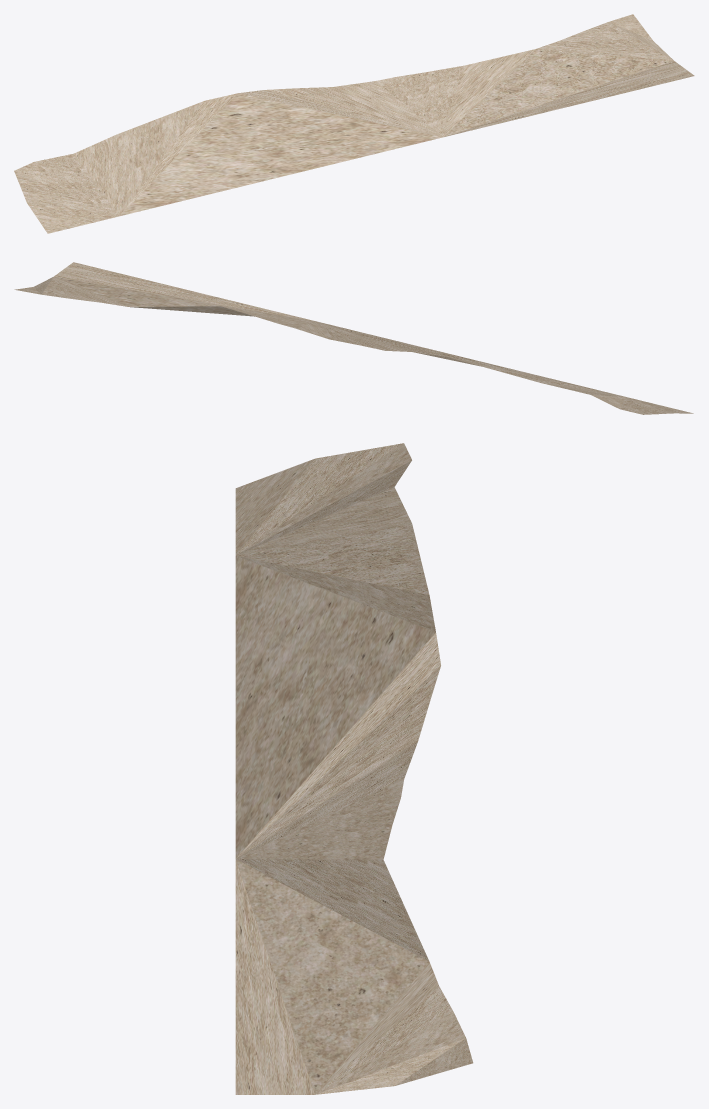
File: lodseabeds01.obj
3 renders of one model, top to bottom at view 1: azimuth 30°, elevation 25°; view 2: azimuth 150°, elevation 25°; view 3: azimuth 270°, elevation 25°, orthographic. The views are drawn at different scales.
Parts seen in each view (by area): view 1: lodseabeds01; view 2: lodseabeds01; view 3: lodseabeds01.
Part boxes in pixels (x1,y1,x2,y2): lodseabeds01: (14,14,694,233); lodseabeds01: (14,262,693,414); lodseabeds01: (235,443,473,1094).
Bounding box in the file's own units: 445 × 29.89 × 73.72.
